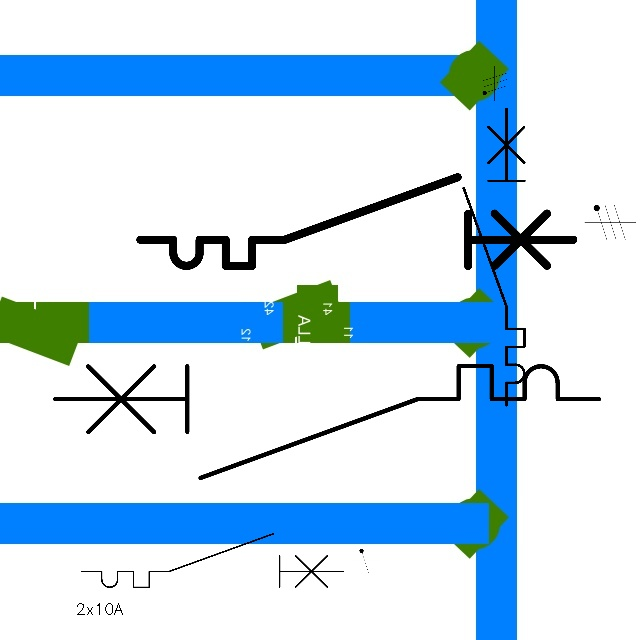interruptor_termomagnetico: (41, 352, 613, 492), (129, 166, 584, 277), (456, 101, 532, 413), (75, 527, 350, 594)
